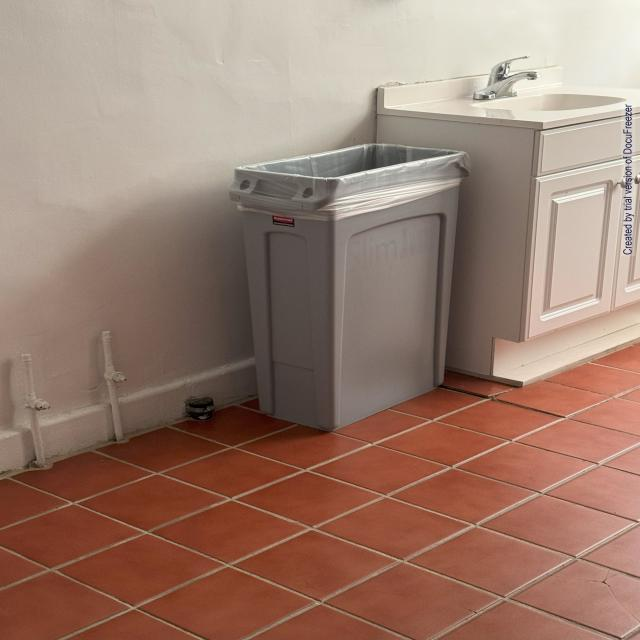Trash bin: (225, 126, 475, 440)
